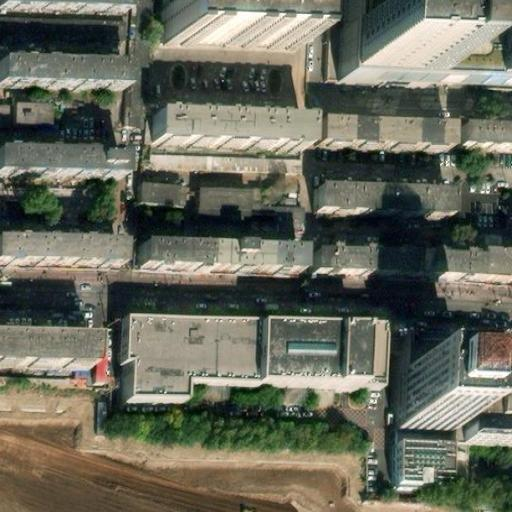building: (344, 0, 512, 89), (117, 324, 263, 405), (260, 330, 379, 392), (159, 12, 293, 55), (153, 116, 304, 152), (321, 179, 462, 216), (341, 35, 438, 86), (317, 115, 449, 150), (404, 362, 462, 433), (0, 21, 122, 53), (0, 331, 87, 375), (144, 151, 292, 175), (127, 237, 224, 271), (315, 245, 417, 277), (434, 245, 512, 284), (401, 430, 458, 482), (199, 185, 259, 225), (223, 243, 293, 274), (467, 400, 512, 445), (408, 329, 464, 365), (2, 0, 125, 13), (0, 100, 55, 127), (464, 123, 512, 147), (492, 43, 512, 90), (141, 181, 180, 202)
